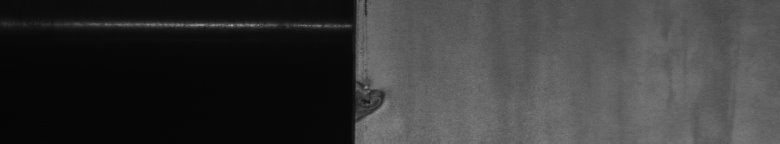hb: (364, 4, 390, 128)
